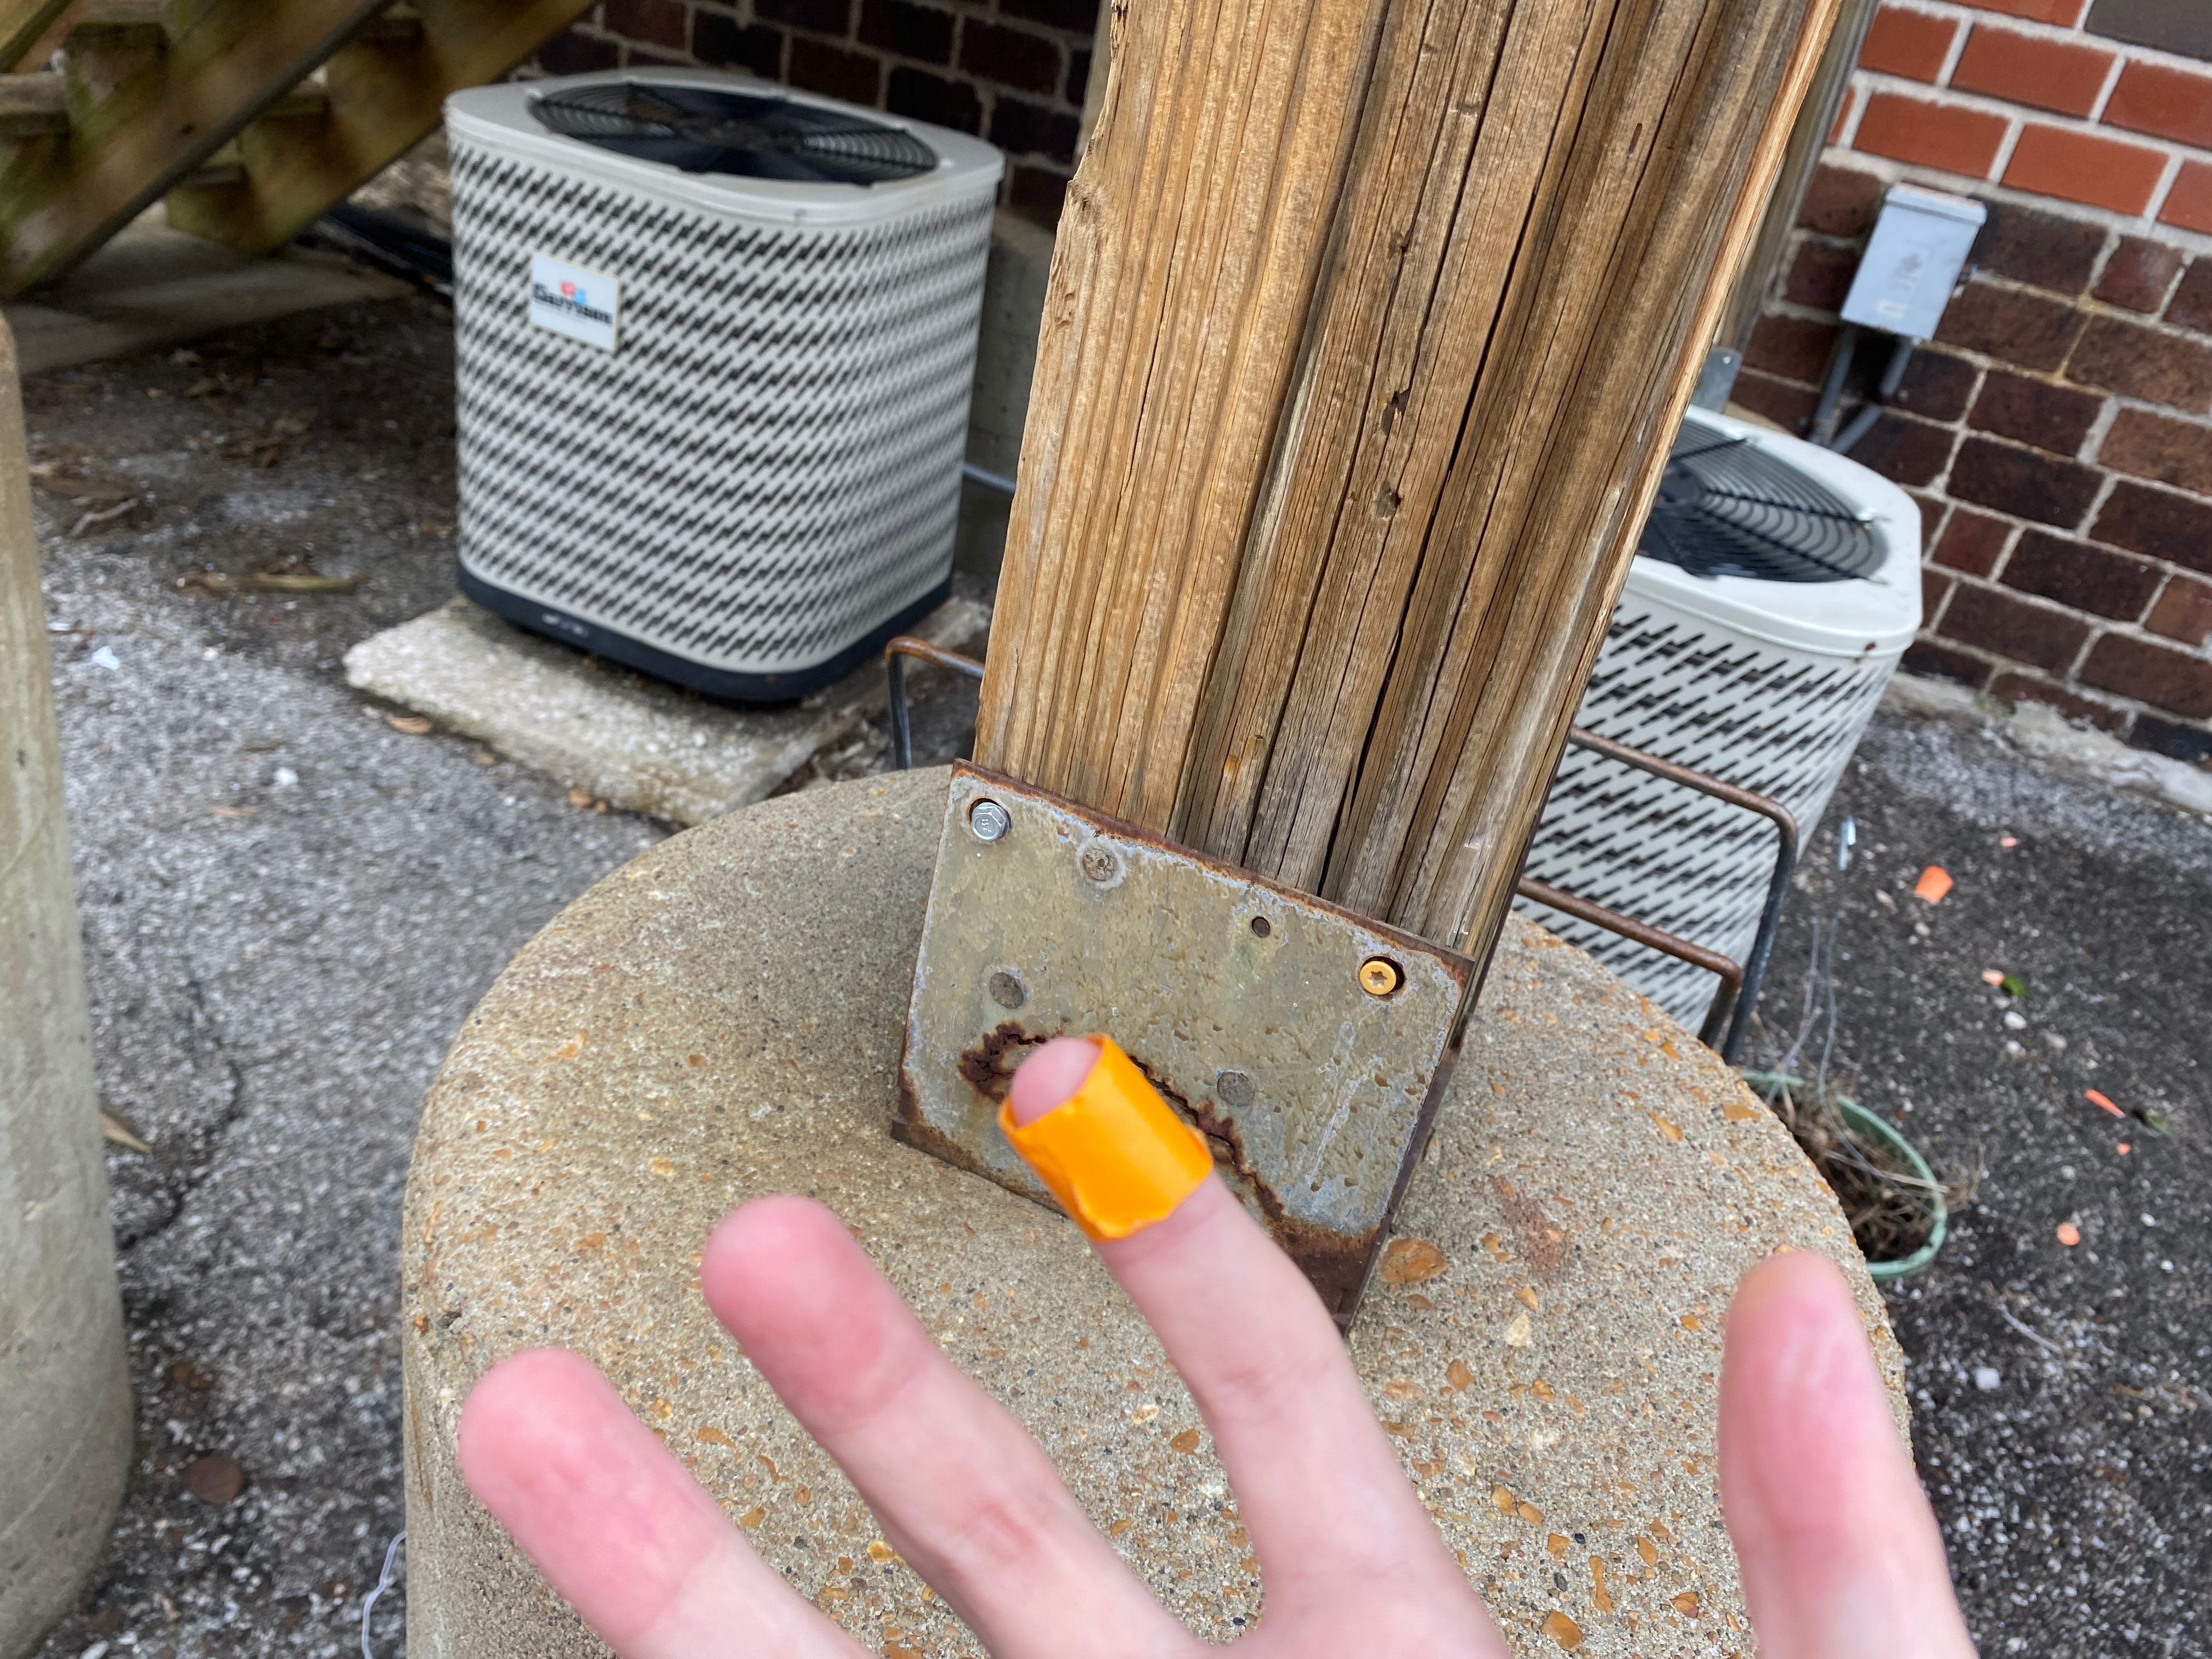fingertip: (981, 1023, 1230, 1304)
